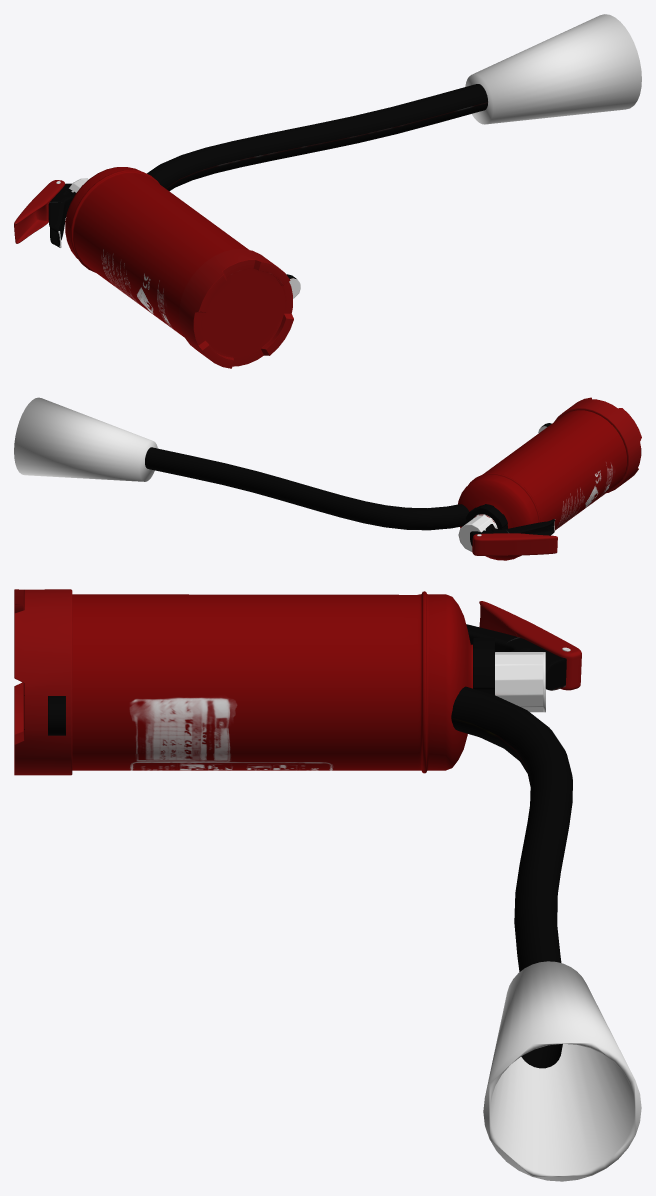
File: FireExtinguisher.fbx
3 renders of one model, top to bottom at view 1: azimuth 30°, elevation 25°; view 2: azimuth 150°, elevation 25°; view 3: azimuth 270°, elevation 25°, orthographic. The views are drawn at different scales.
Parts seen in each view (by area): view 1: Object_2.006, Object_2.024, Object_2.004; view 2: Object_2.006, Object_2.024, Object_2.004; view 3: Object_2.006, Object_2.024, Object_2.004.
Boxes of the visible parts, x1,y1,x2,y2 form: Object_2.006: (65,14,641,368); Object_2.024: (14,180,65,243); Object_2.004: (48,183,75,247); Object_2.006: (14,397,641,560); Object_2.024: (472,533,557,555); Object_2.004: (470,519,555,546); Object_2.006: (14,589,641,1181); Object_2.024: (479,601,581,690); Object_2.004: (466,624,566,690).
Bounding box in the file's own units: 1120 × 177 × 599.
